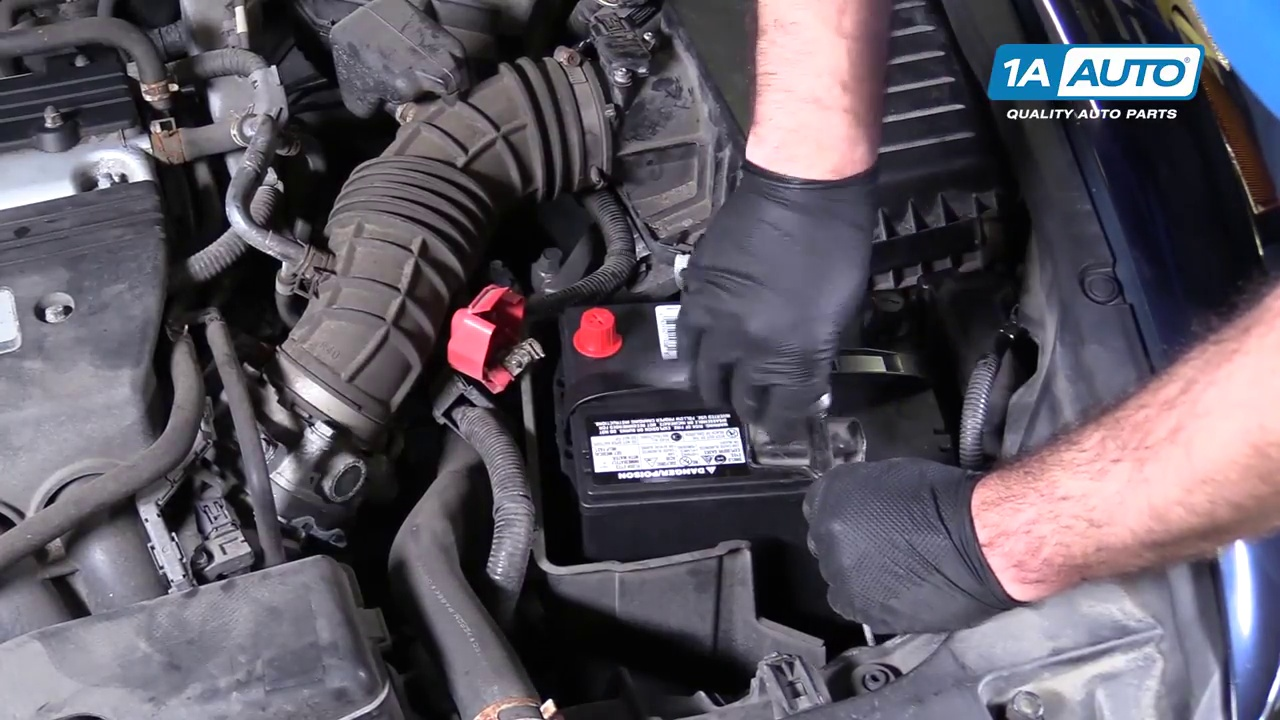battery: (553, 292, 963, 486)
pos_disconnected: (445, 268, 641, 391)
